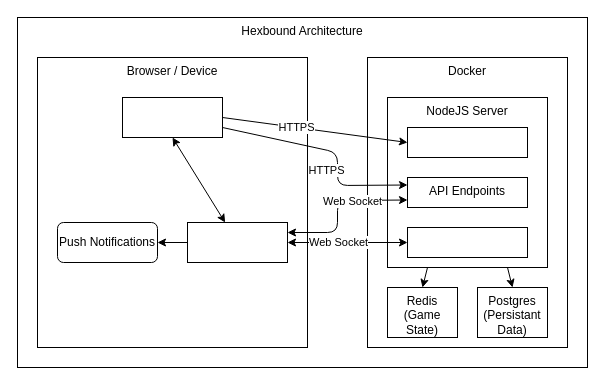
The diagram is 605 pixels wide and 385 high, and some of its shapes have lost their labels. Each missing label, with the centre of its shape:
"DOM" goes at (172,117).
"Front End Code" goes at (467,142).
"Game Engine" goes at (467,242).
"Service Worker" goes at (237,242).
